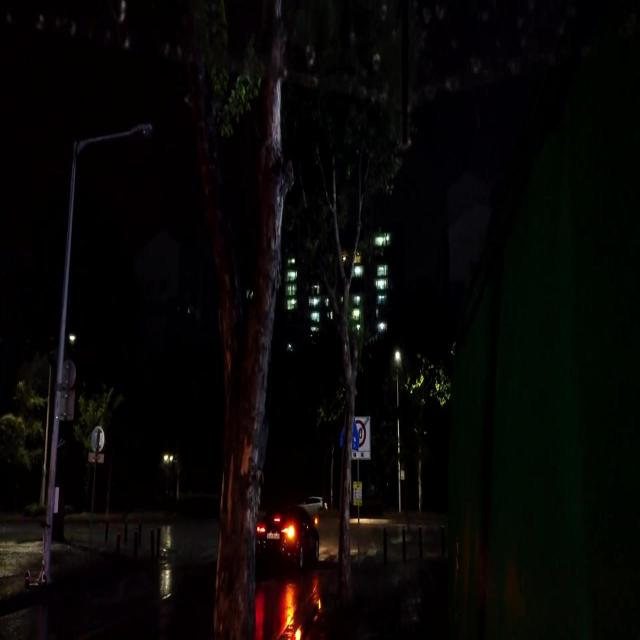Car: (256, 508, 321, 574)
